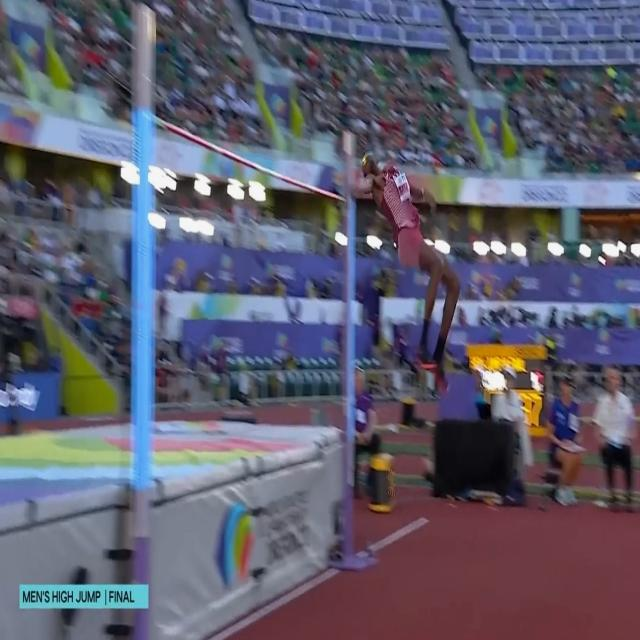jump: (333, 149, 461, 397)
